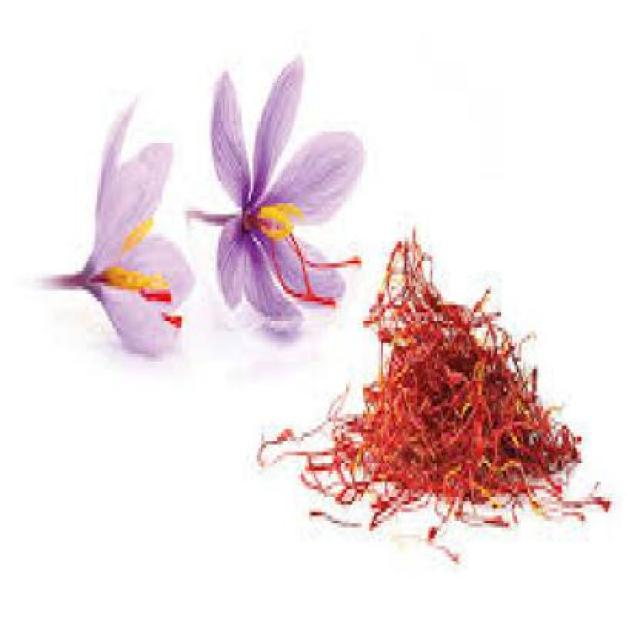saffron open: (186, 58, 364, 333), (55, 104, 194, 354)
